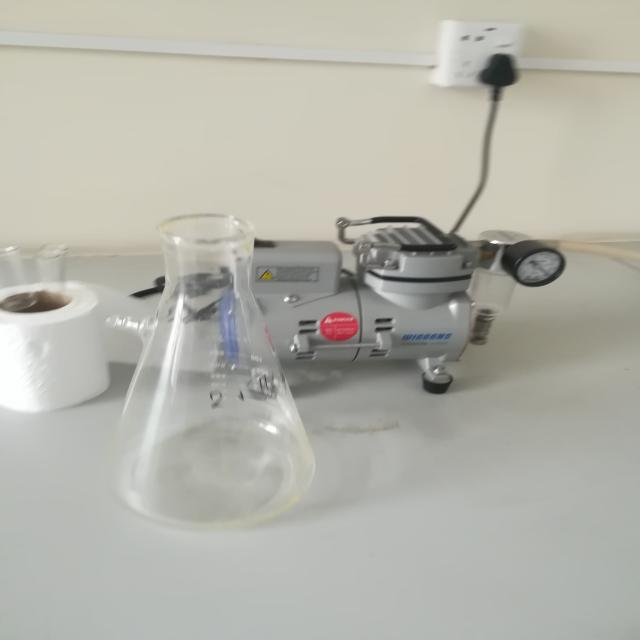Conical_Flask: (71, 157, 339, 561)
